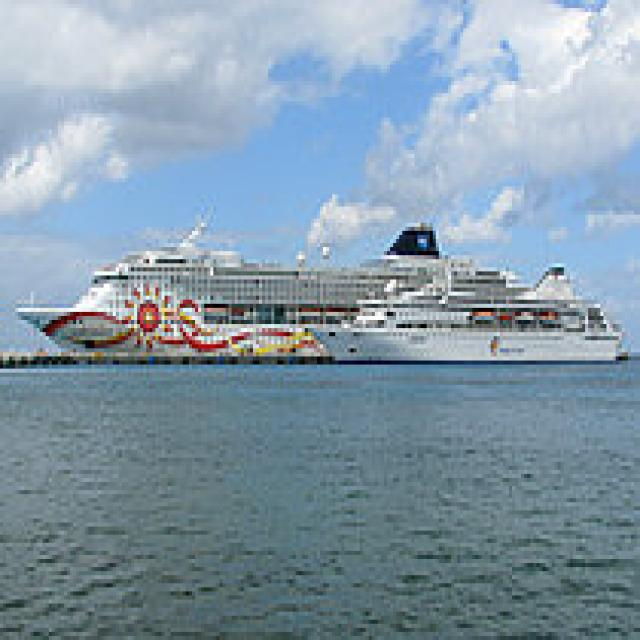Ship: (10, 196, 510, 370), (303, 256, 632, 382)
